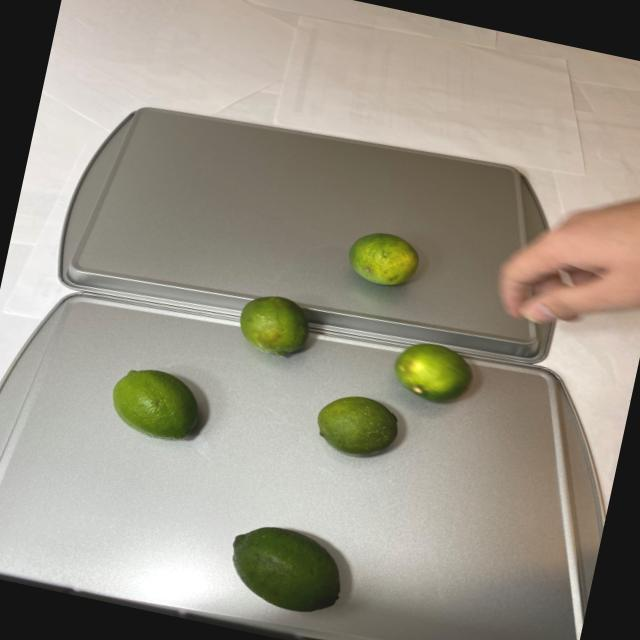lemon: (72, 260, 496, 638), (338, 219, 438, 296)
